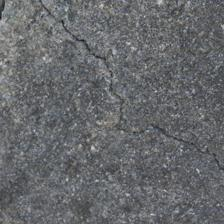Crack: (18, 68, 142, 119), (29, 69, 95, 155)
